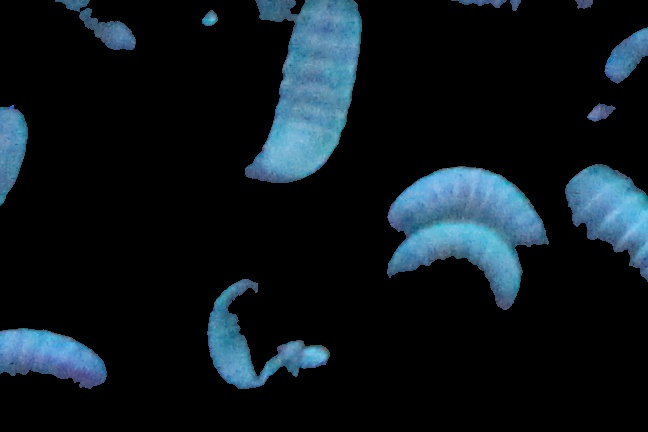larvae: (238, 1, 365, 190), (385, 219, 525, 321), (385, 165, 545, 252), (1, 314, 114, 419), (561, 159, 648, 288), (202, 270, 262, 390), (1, 101, 30, 236)
